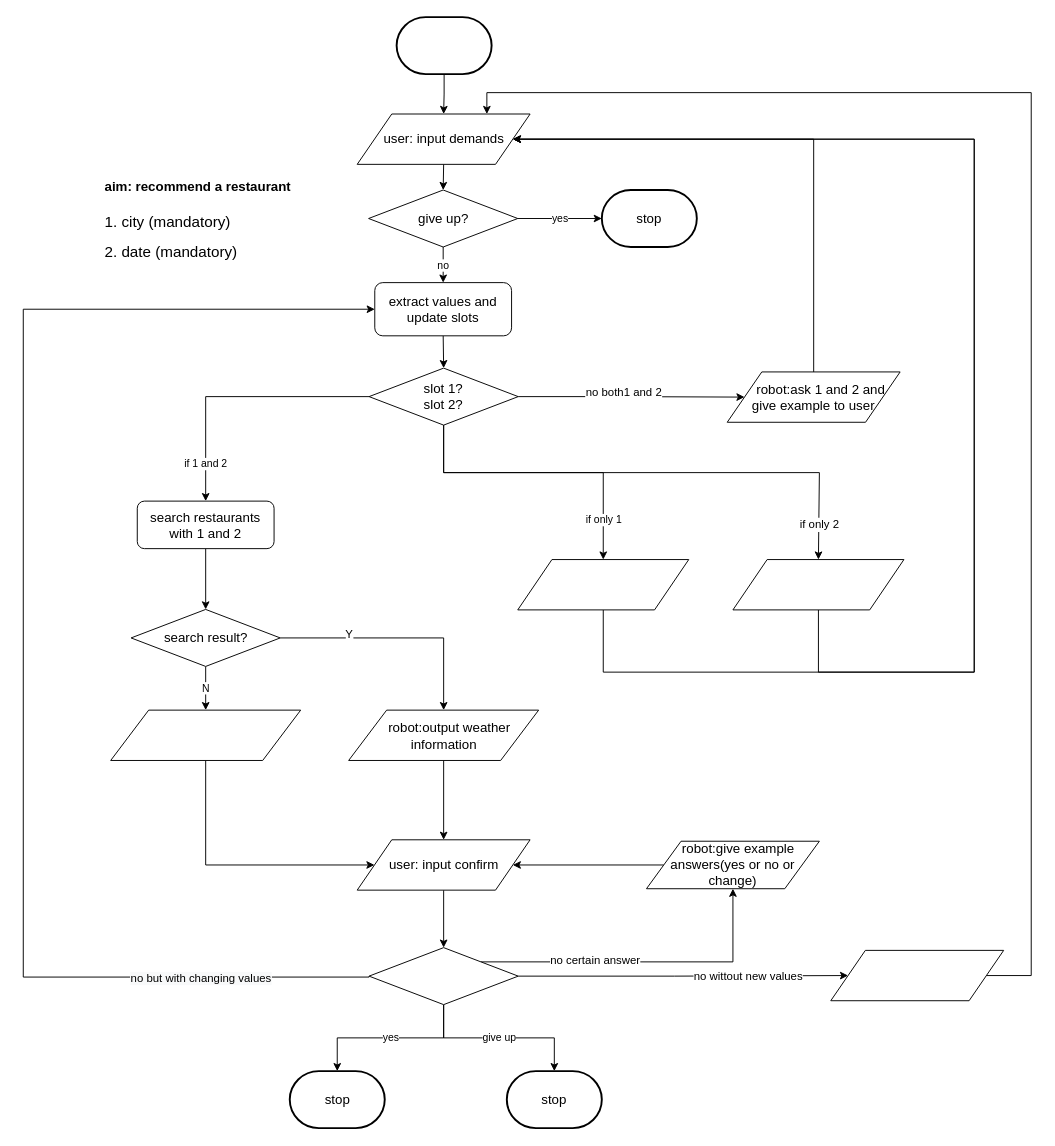
The diagram is 1055 pixels wide and 1146 high, and some of its shapes have lost their labels. Here are the shapes that lost their labels. From the top down, the centre of each, then its label:
the point at 443,45: start
the point at 603,584: robot: ask 2
the point at 818,584: robot: ask 1
the point at 205,734: robot:output current slot values
the point at 443,976: ok?
the point at 917,975: robot: show current slots and query new demands
